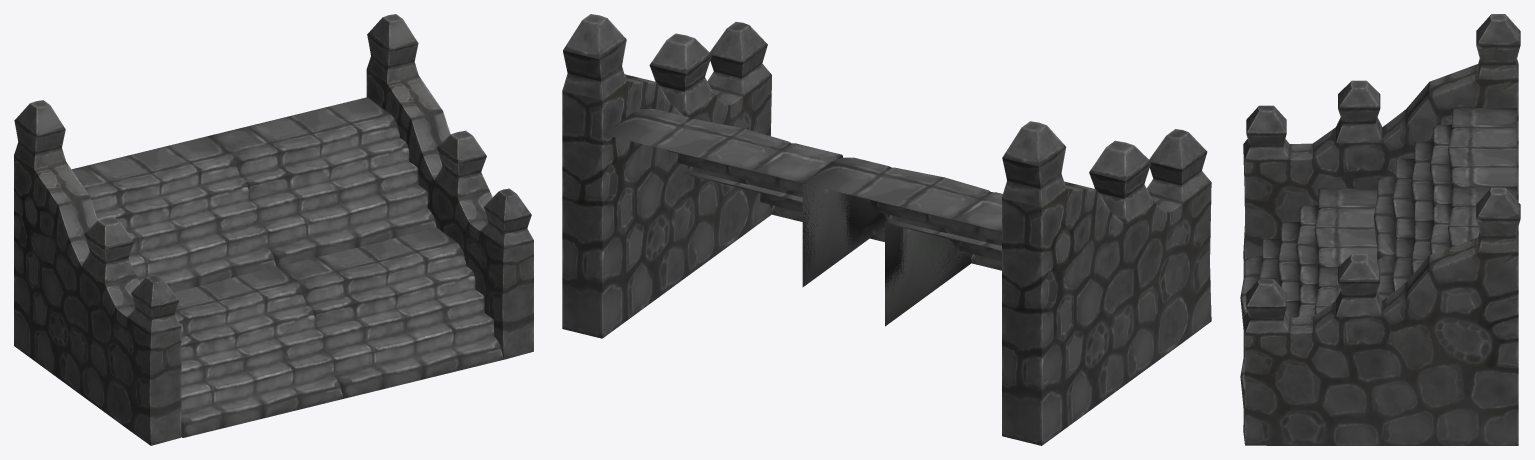
Rendered from dungeon_stairs_type_3.glb.
3 renders of one model, left to right at view 1: azimuth 30°, elevation 25°; view 2: azimuth 150°, elevation 25°; view 3: azimuth 270°, elevation 25°, orthographic. The views are drawn at different scales.
Parts seen in each view (by area): view 1: Stair Rail type C, Stairs.004, Stairs.006, Stair Rail type C.001, Stairs.003, Stairs.005; view 2: Stair Rail type C, Stair Rail type C.001, Stairs.006, Stairs.005, Stairs.004, Stairs.003; view 3: Stair Rail type C.001, Stair Rail type C, Stairs.005, Stairs.003, Stairs.006, Stairs.004.
Boxes of the visible parts, <box> form: Stair Rail type C: <box>14,100,181,445</box>; Stairs.004: <box>277,227,503,398</box>; Stairs.006: <box>208,97,436,266</box>; Stair Rail type C.001: <box>366,14,533,359</box>; Stairs.003: <box>173,266,342,437</box>; Stairs.005: <box>71,136,276,292</box>; Stair Rail type C: <box>1002,121,1211,445</box>; Stair Rail type C.001: <box>562,14,771,338</box>; Stairs.006: <box>603,109,870,283</box>; Stairs.005: <box>802,157,1002,287</box>; Stairs.004: <box>686,170,971,326</box>; Stairs.003: <box>885,219,1001,292</box>; Stair Rail type C.001: <box>1243,187,1520,445</box>; Stair Rail type C: <box>1243,14,1520,261</box>; Stairs.005: <box>1374,108,1517,260</box>; Stairs.003: <box>1240,188,1377,341</box>; Stairs.006: <box>1377,186,1517,300</box>; Stairs.004: <box>1240,267,1340,417</box>.
Size of the model in its own units: 960 by 585 by 600.
2 materials, 2 textured.
